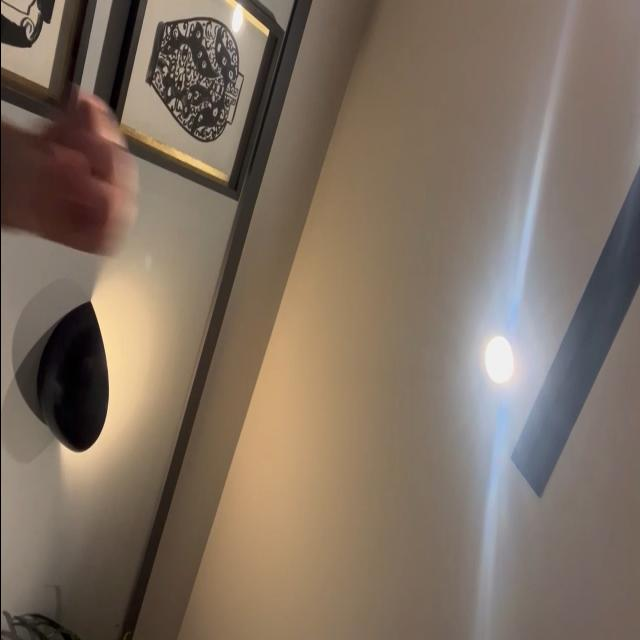Rock: (45, 89, 134, 252)
